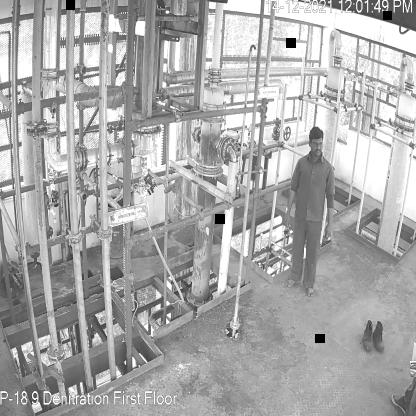no_shoes: (283, 278, 301, 288), (304, 286, 315, 300)
shoes: (361, 319, 377, 353), (374, 322, 386, 352)
